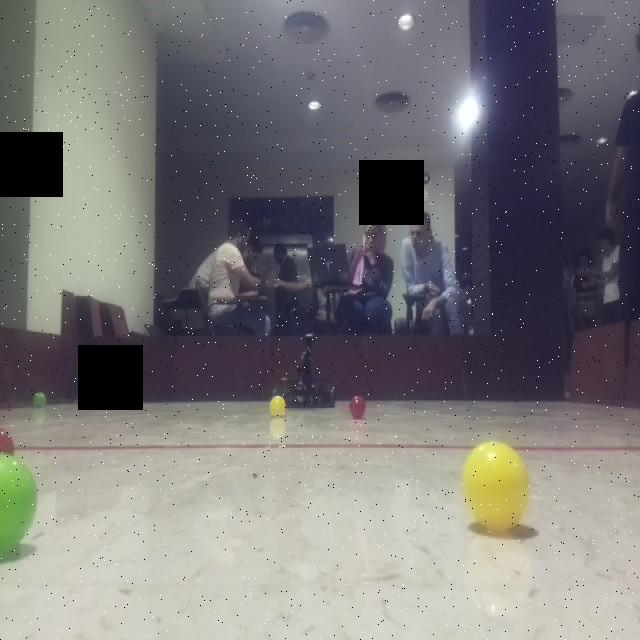ball: (458, 437, 534, 535), (2, 452, 43, 564), (266, 392, 292, 422), (346, 394, 370, 420), (30, 388, 50, 412)
